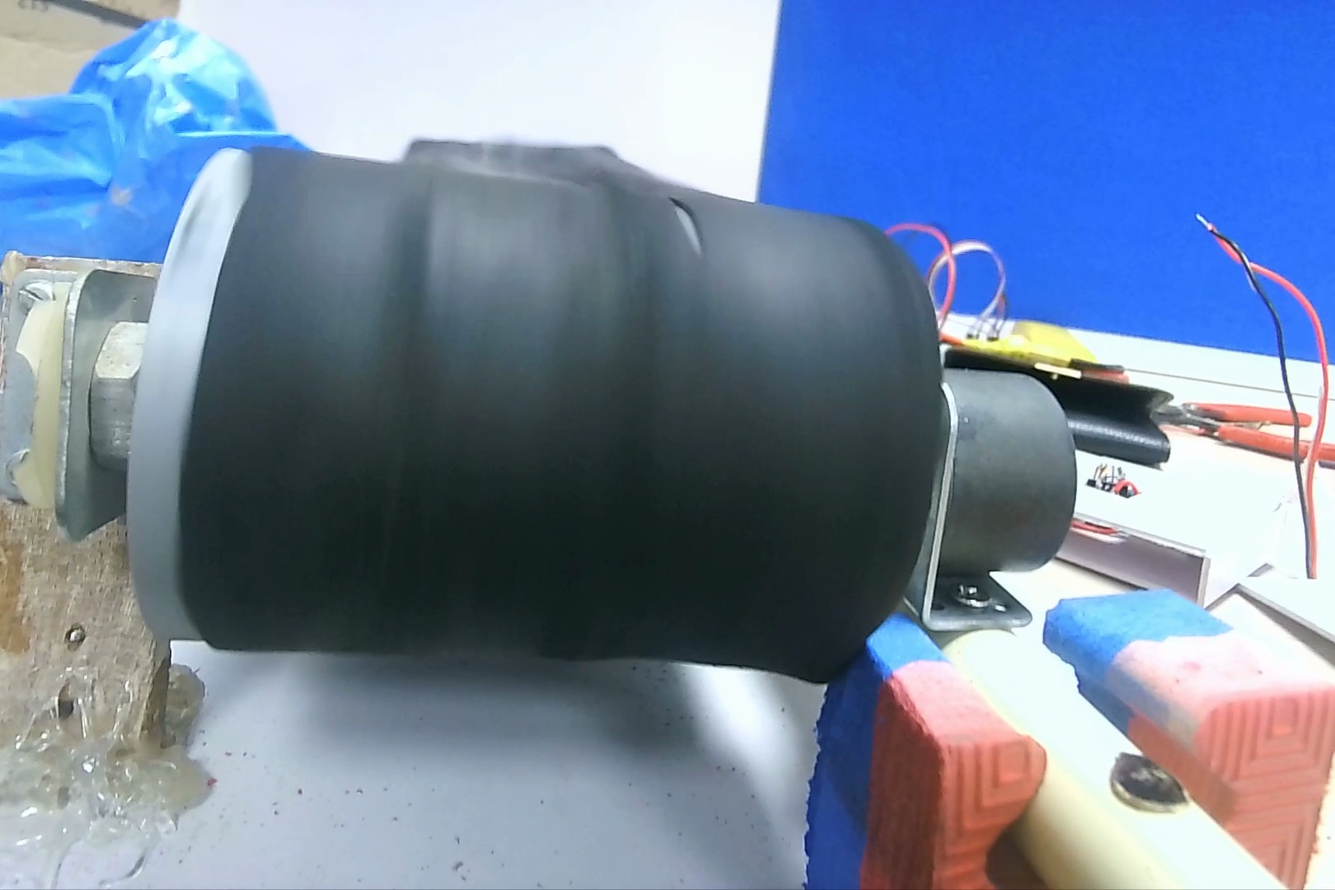tear: (663, 190, 716, 256)
